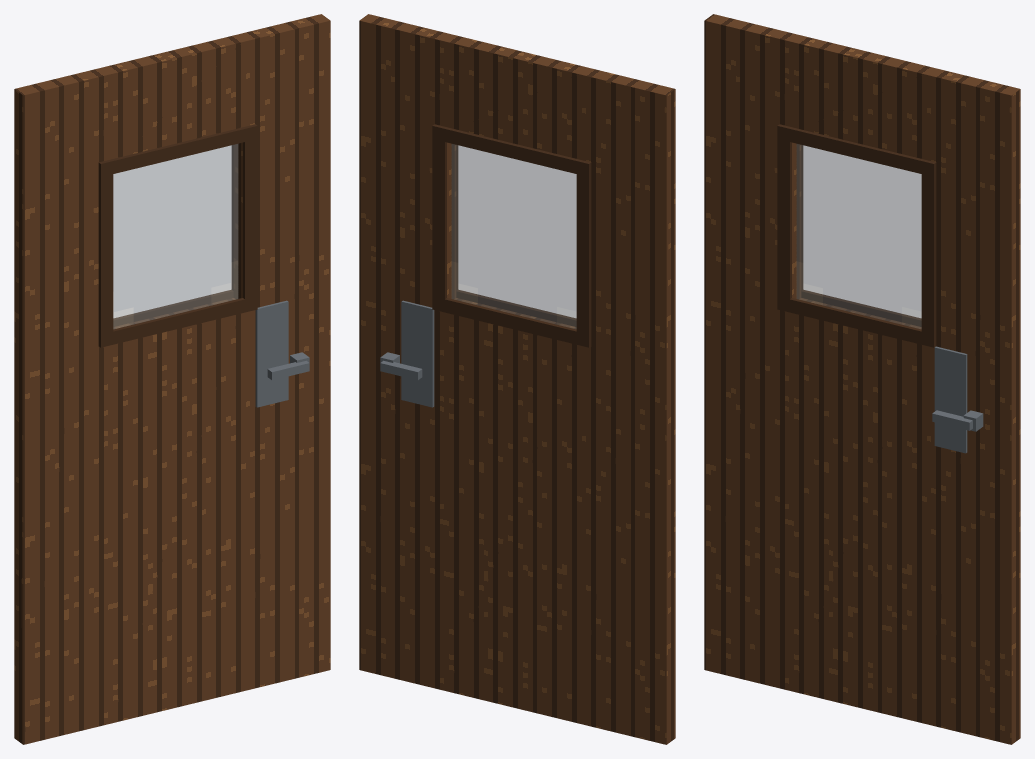
The model's file is door_school_oak.glb.
3 renders of one model, left to right at view 1: azimuth 30°, elevation 25°; view 2: azimuth 150°, elevation 25°; view 3: azimuth 330°, elevation 25°, orthographic.
Visible parts, largest first — view 1: door_school_oak; view 2: door_school_oak; view 3: door_school_oak.
Boxes of the visible parts, box(x1,y1,x2,y2) form: door_school_oak: box(14, 14, 330, 744); door_school_oak: box(359, 14, 675, 744); door_school_oak: box(704, 14, 1020, 744).
Bounding box in the file's own units: 0.98 × 1.98 × 0.165.
Materials: 4 (4 with a texture image).
